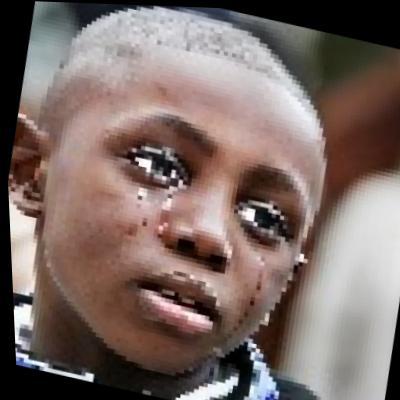sad: (18, 18, 340, 393)
